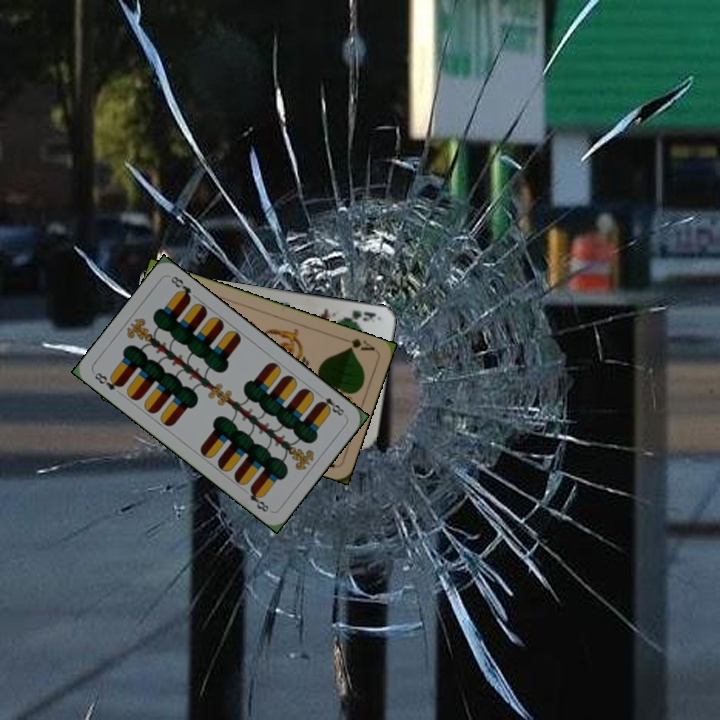E8: (314, 389, 347, 418), (90, 368, 125, 393)
GA: (338, 334, 378, 353)
GK: (339, 305, 379, 324)
